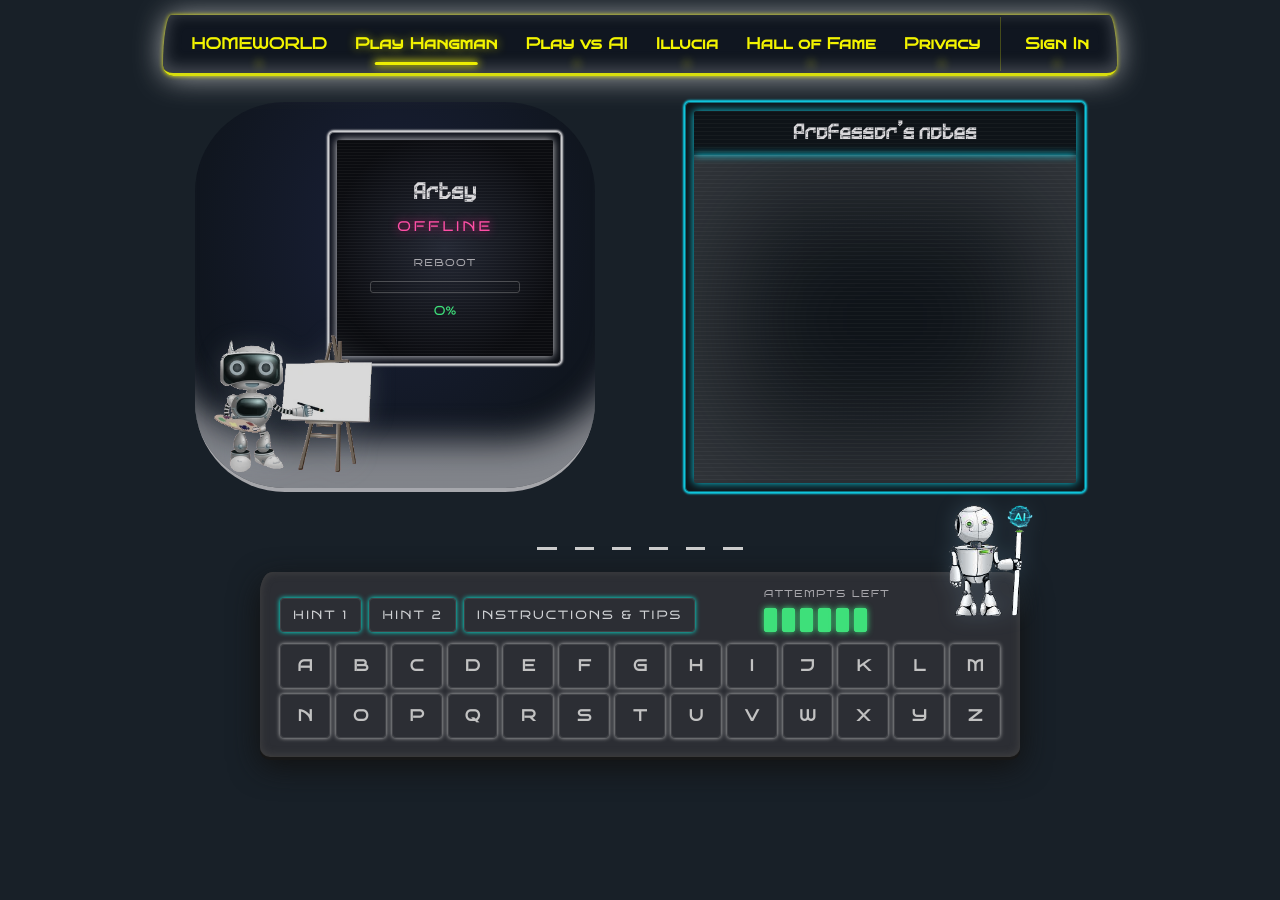
Test: /hangman game rules › counts down remaining tries on misses and leaves the message alone on hits
Click the button "a" at (305, 666), box [280,644,330,688]
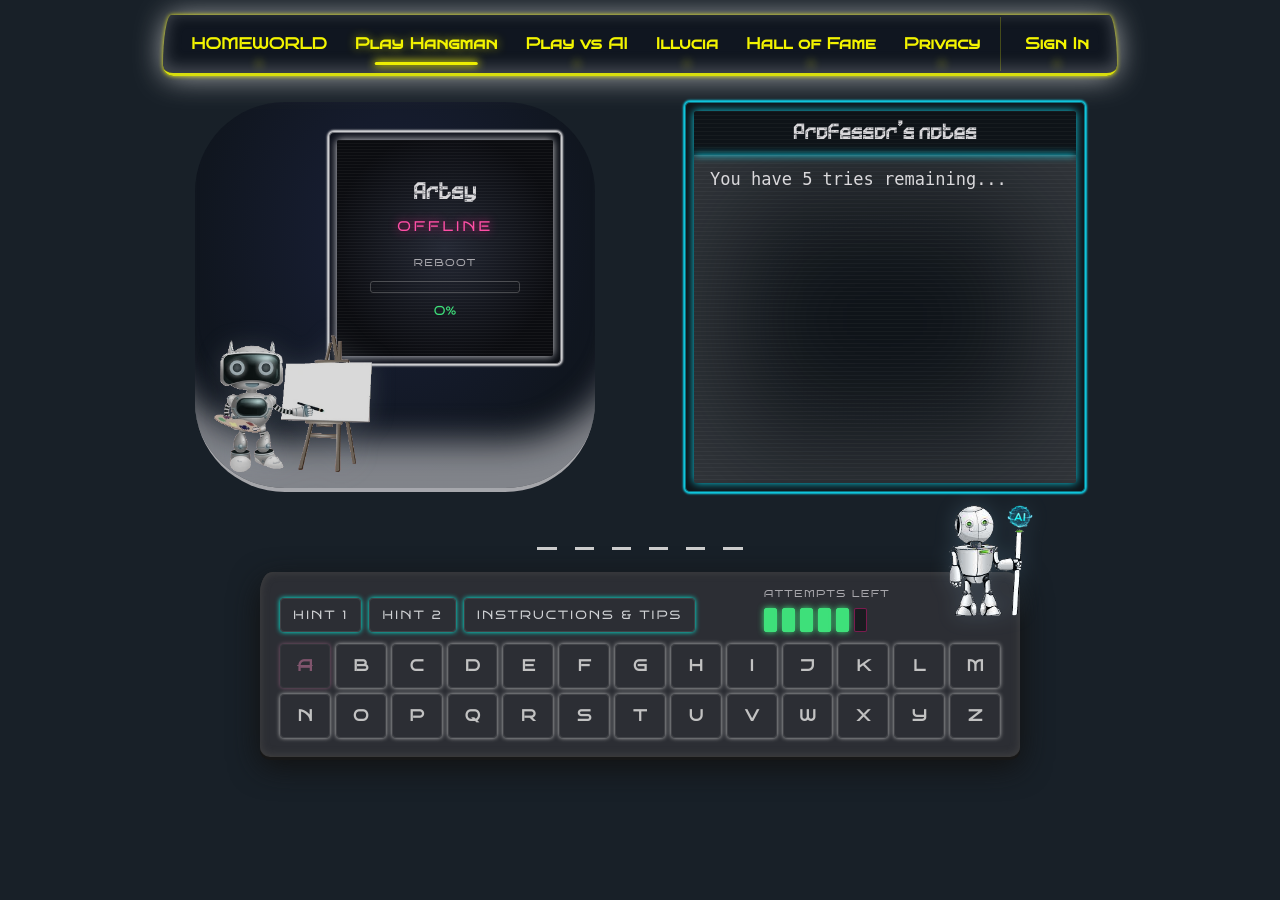
Expected: the heading "You have 5 tries remaining..." is shown, [710,169,1007,189]
Click the button "p" at (417, 716), box [392,694,442,738]
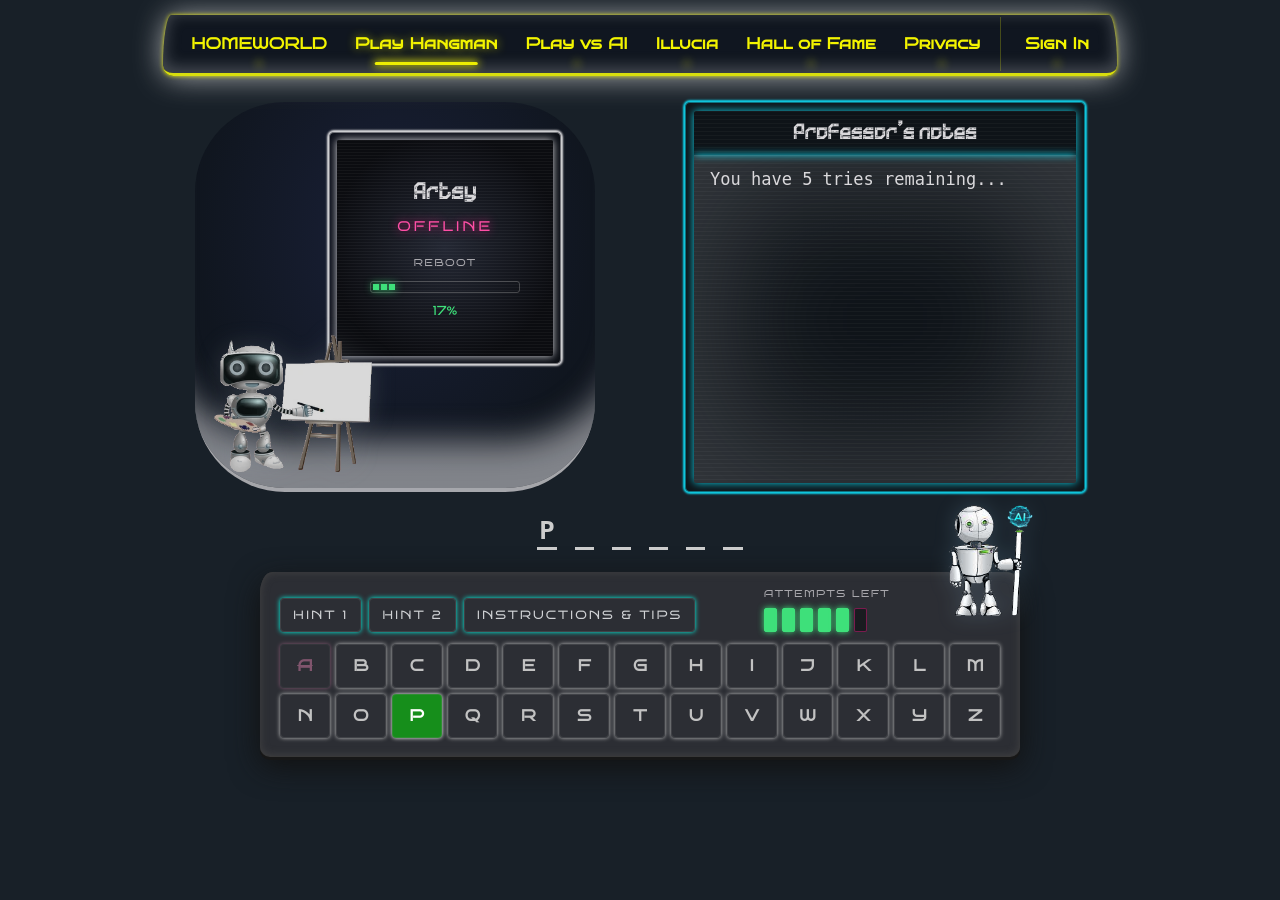
Expected: the heading "You have 5 tries remaining..." is shown, [710,169,1007,189]
Click the button "b" at (361, 666), box [336,644,386,688]
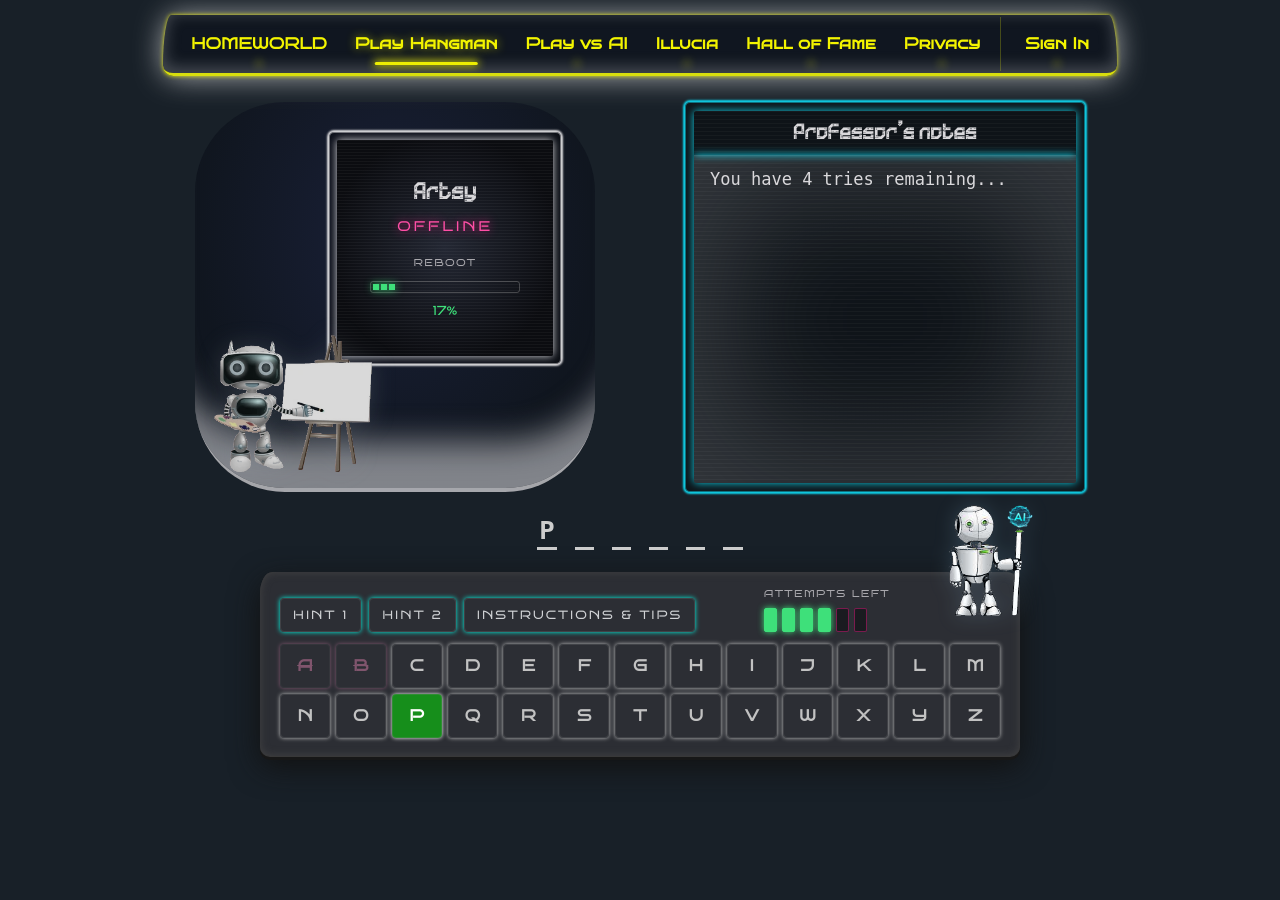
Click the button "c" at (417, 666), box [392,644,442,688]
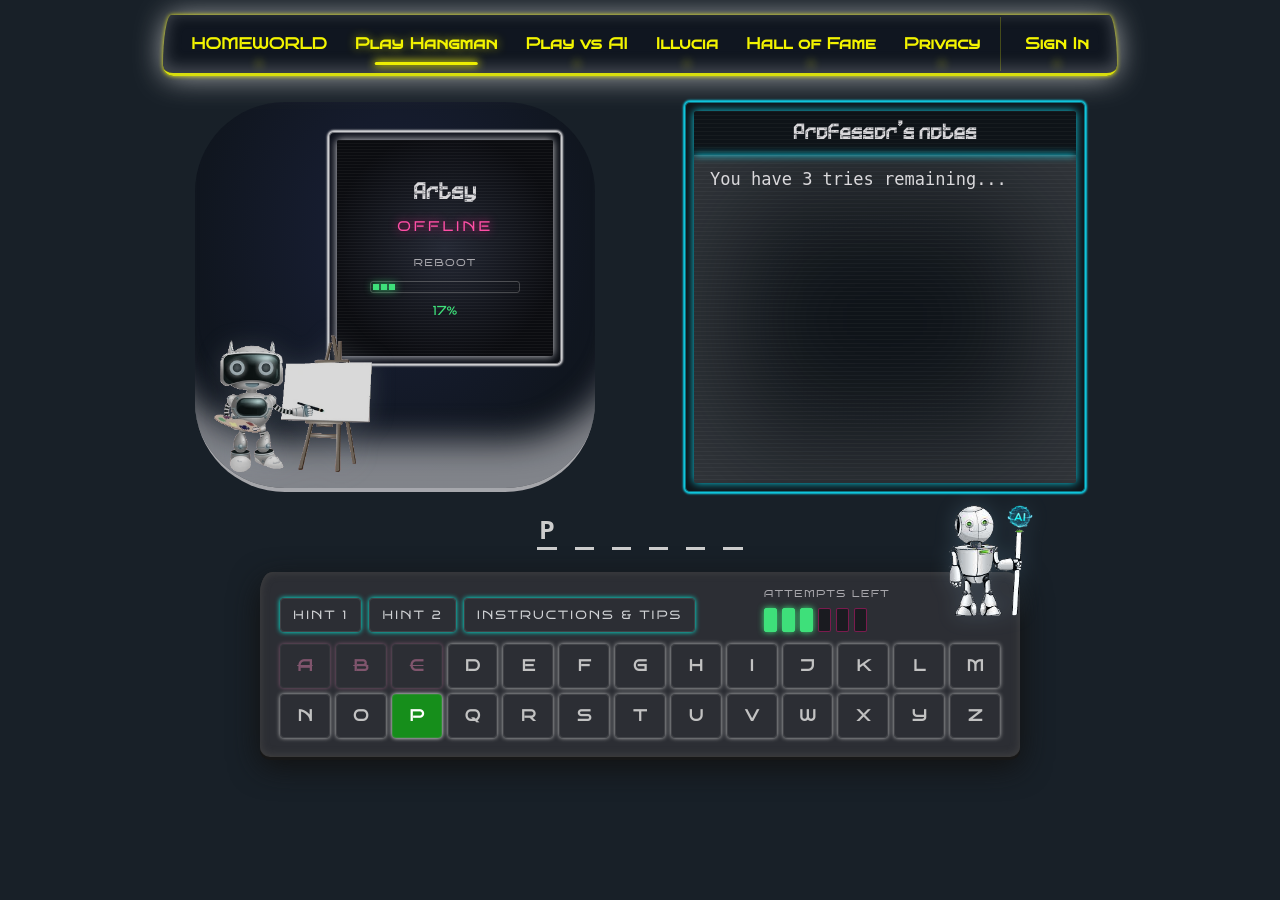
Click the button "d" at (472, 666), box [448,644,497,688]
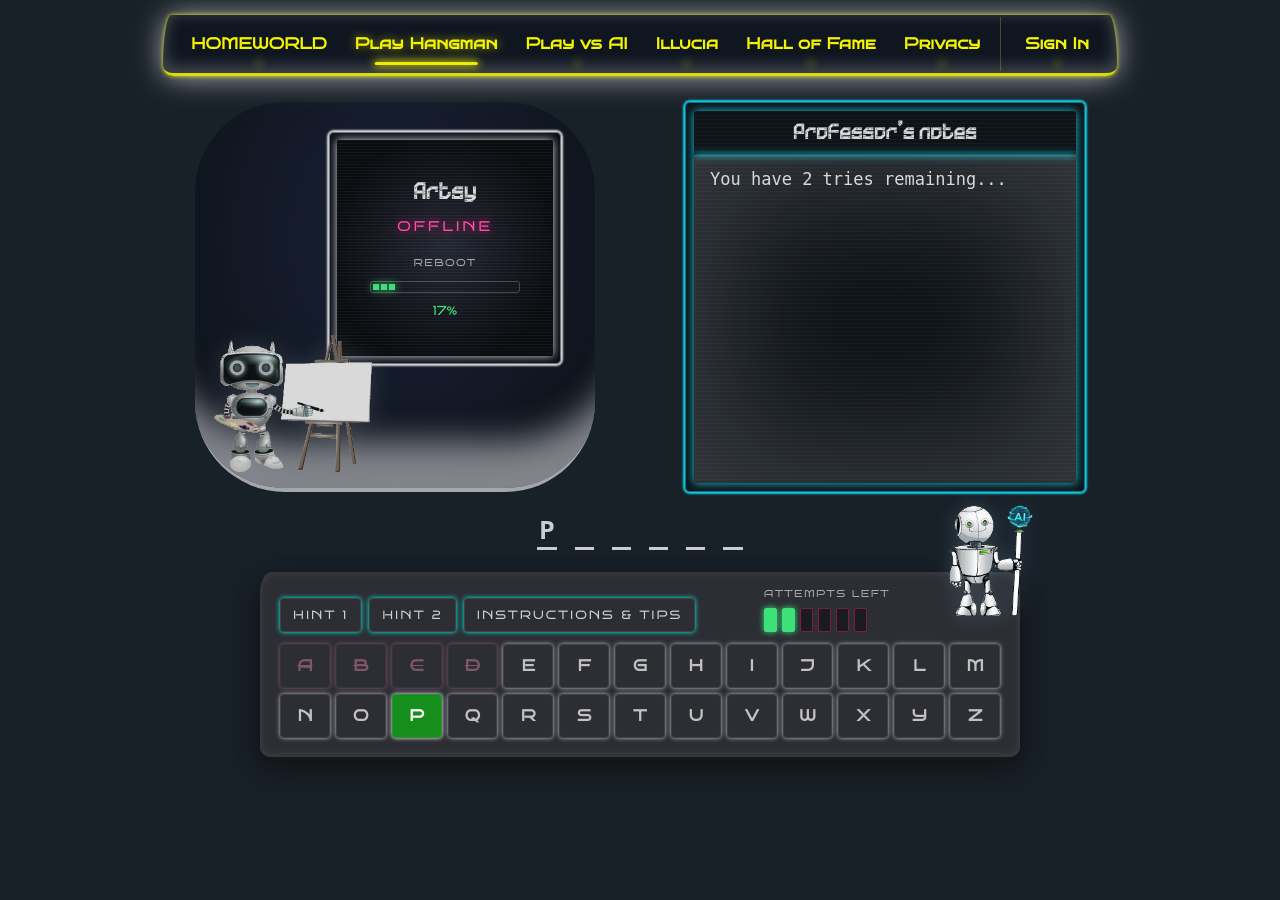
Expected: the heading "You have 2 tries remaining..." is shown, [710,169,1007,189]
Click the button "f" at (584, 666), box [559,644,609,688]
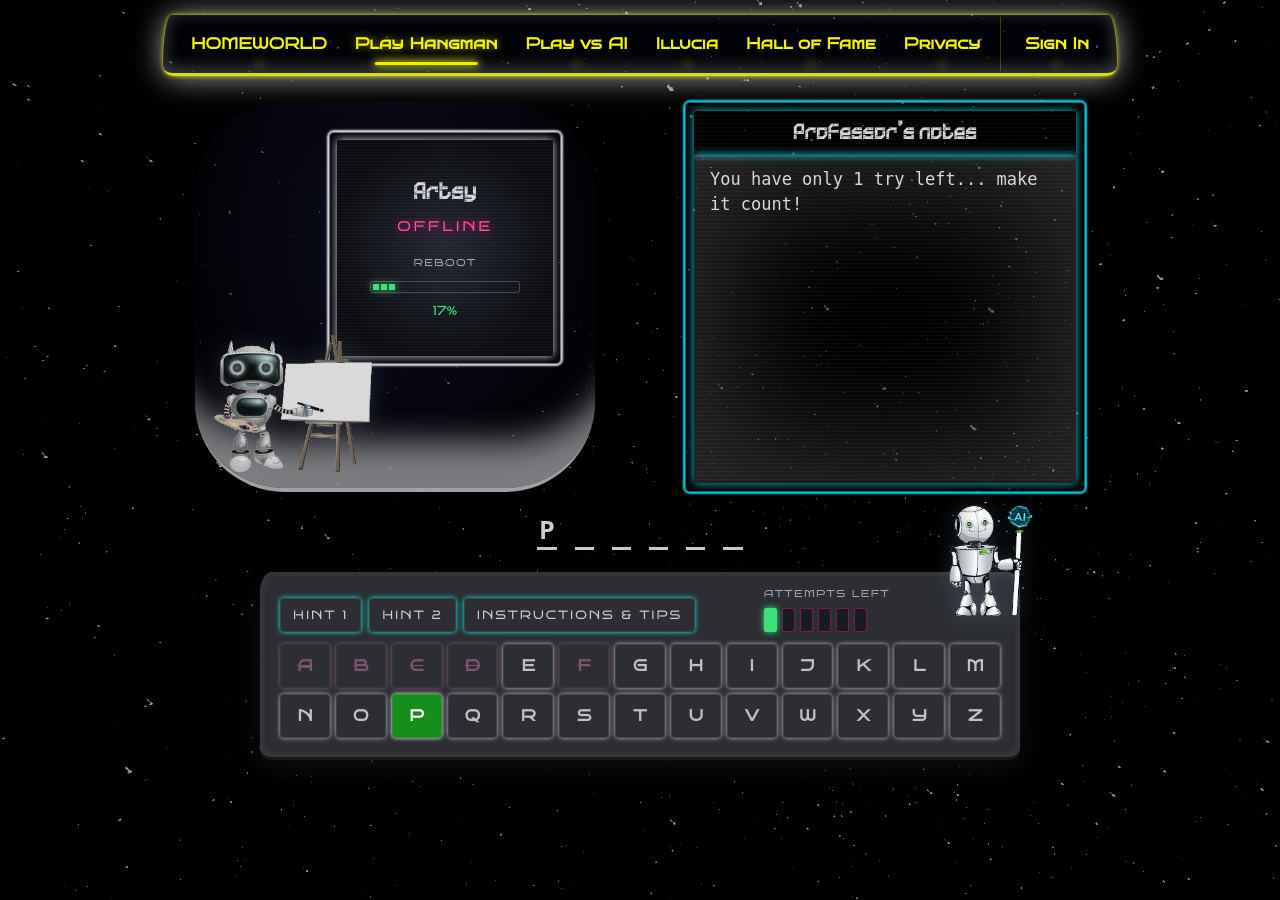
Expected: the heading "You have only 1 try left... make it count!" is shown, [710,167,1060,218]
